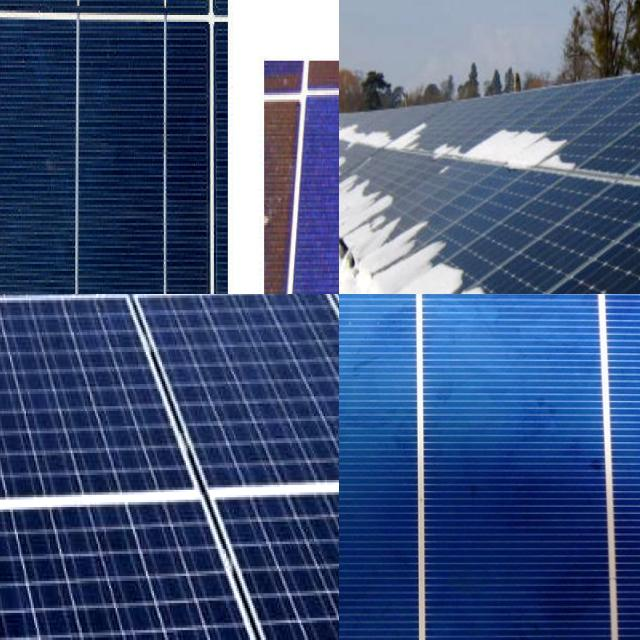crack: (123, 294, 339, 522), (0, 294, 212, 511), (0, 486, 274, 640), (188, 472, 339, 640), (45, 294, 245, 390), (171, 294, 339, 390), (0, 294, 102, 388)
panel: (477, 120, 576, 180), (394, 219, 466, 294), (339, 200, 383, 294), (342, 162, 388, 224), (378, 121, 432, 157), (474, 272, 559, 294), (428, 128, 476, 164), (339, 137, 363, 189), (339, 117, 373, 147)
shadow: (261, 66, 302, 294), (339, 395, 369, 556), (309, 60, 339, 107)
